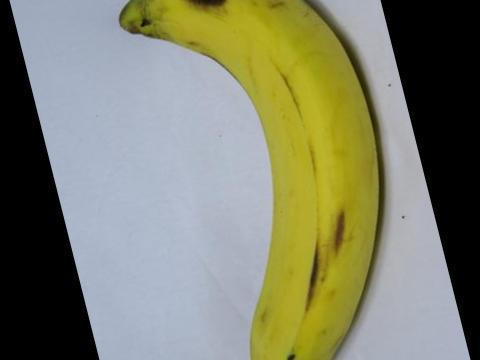freshripe: (106, 0, 401, 359)
